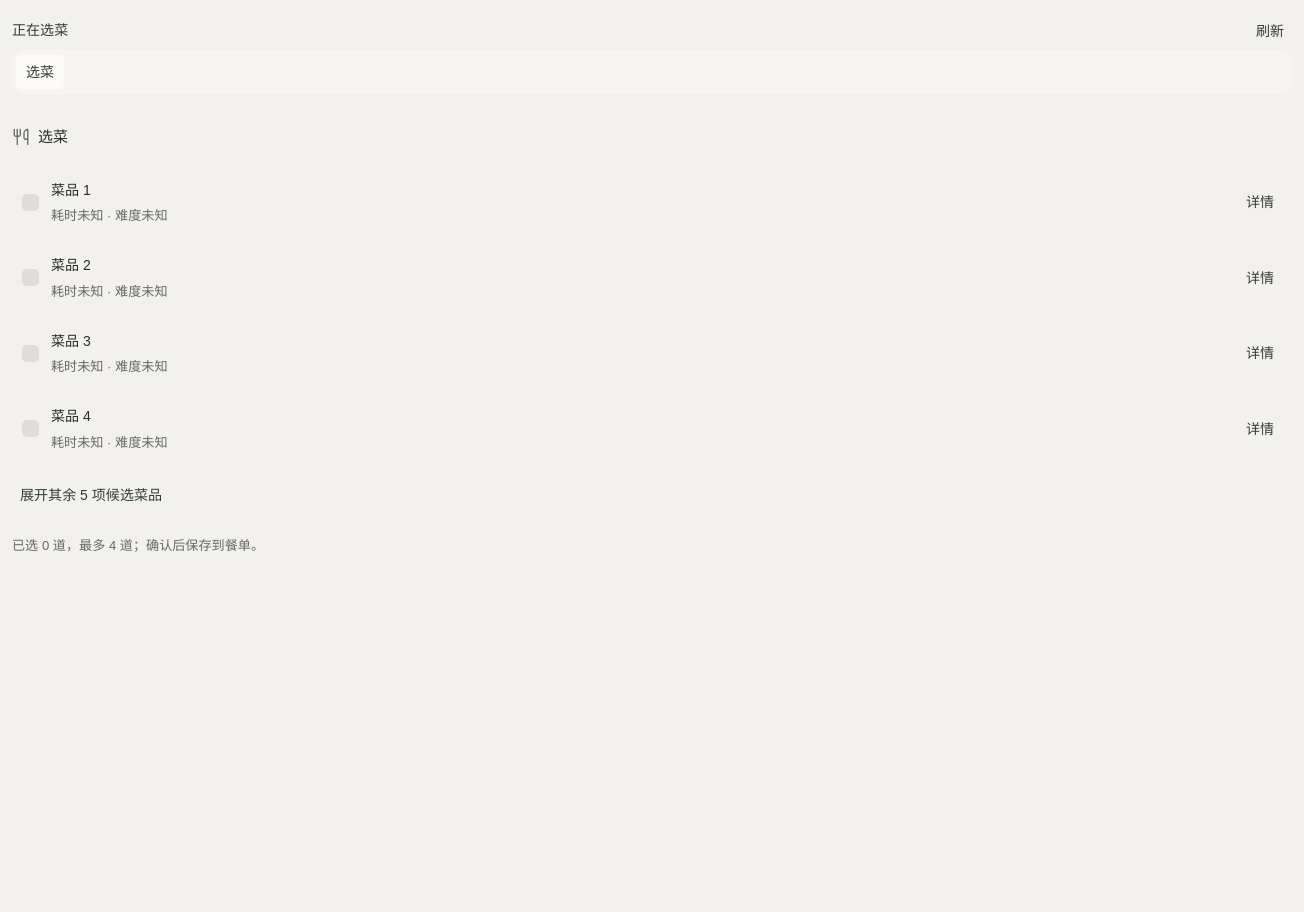
React workspace behavior › keeps previously revealed recipes in view and expands the remaining choices in one action
Click the button "展开其余 5 项候选菜品".
click(91, 496)  # box [12,476,170,514]
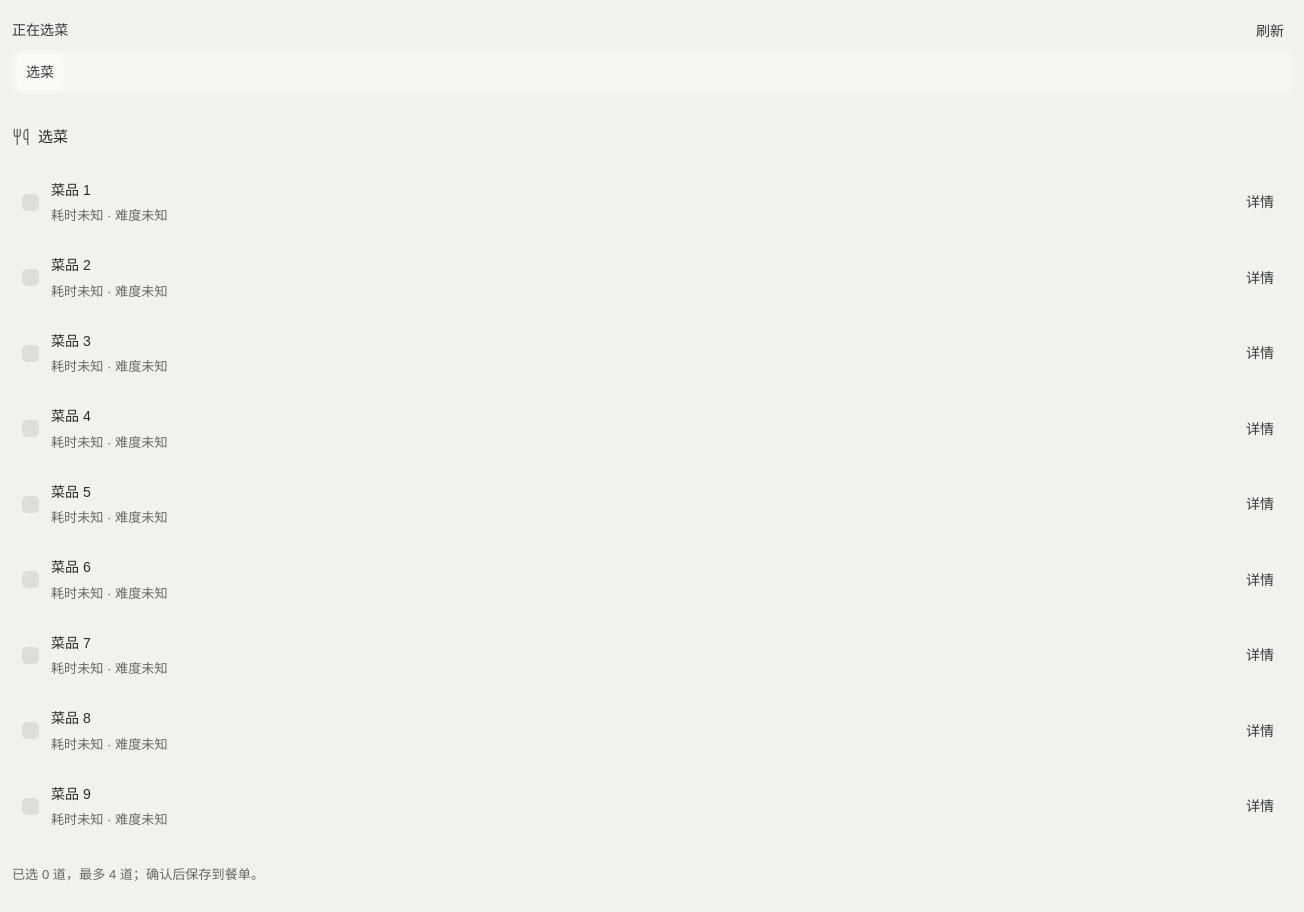
Expected: the text "菜品 1" is shown, [51,182,91,198]
Result: the number of checkboxes is 9
Result: the text "菜品 9" is shown at [51,786,91,802]
